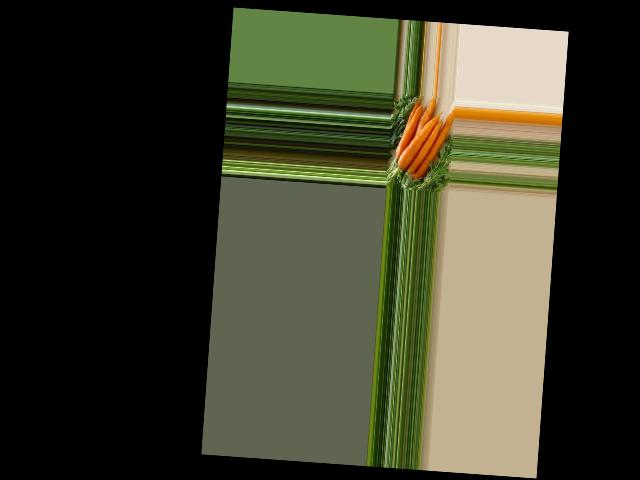carrot: (411, 105, 455, 186)
